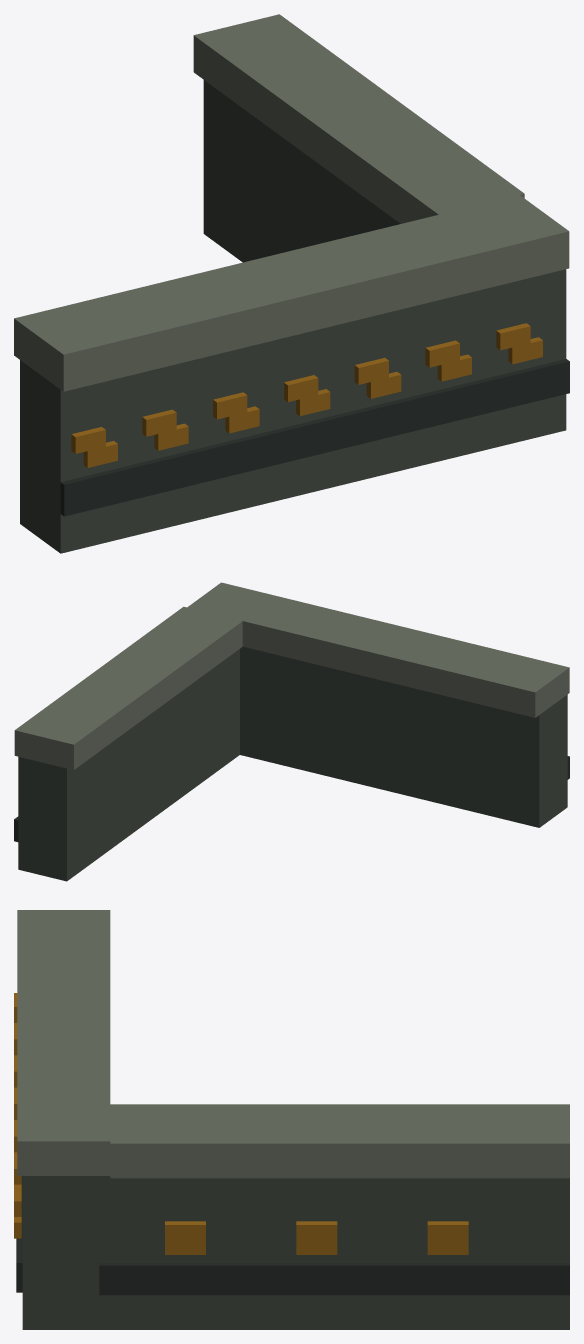
File: CMU3DPlatformCorner.glb
3 renders of one model, top to bottom at view 1: azimuth 30°, elevation 25°; view 2: azimuth 150°, elevation 25°; view 3: azimuth 270°, elevation 25°, orthographic. The views are drawn at different scales.
Parts seen in each view (by area): view 1: south edge fascia, south edge cap, east return cap, east return fascia, front lower seam, yellow slanted edge marker (×7); view 2: south edge fascia, east return fascia, south edge cap, east return cap; view 3: east return fascia, east return cap, south edge cap, east lower seam, south edge fascia, east warning marker (×3).
Boxes of the visible parts, left/top/right/bottom form: south edge fascia: left=20, top=269, right=566, bottom=553; south edge cap: left=14, top=195, right=569, bottom=391; east return cap: left=193, top=14, right=524, bottom=223; east return fascia: left=203, top=80, right=400, bottom=262; front lower seam: left=60, top=359, right=569, bottom=516; yellow slanted edge marker (×7): left=71, top=323, right=530, bottom=453; south edge fascia: left=240, top=646, right=567, bottom=827; east return fascia: left=18, top=649, right=239, bottom=881; south edge cap: left=187, top=582, right=569, bottom=717; east return cap: left=14, top=606, right=242, bottom=769; east return fascia: left=99, top=1176, right=569, bottom=1329; east return cap: left=110, top=1104, right=569, bottom=1178; south edge cap: left=17, top=910, right=110, bottom=1175; east lower seam: left=99, top=1263, right=569, bottom=1295; south edge fascia: left=22, top=1176, right=99, bottom=1329; east warning marker (×3): left=165, top=1221, right=468, bottom=1254.
Size of the model in its own units: 1.02 by 0.38 by 1.02.
